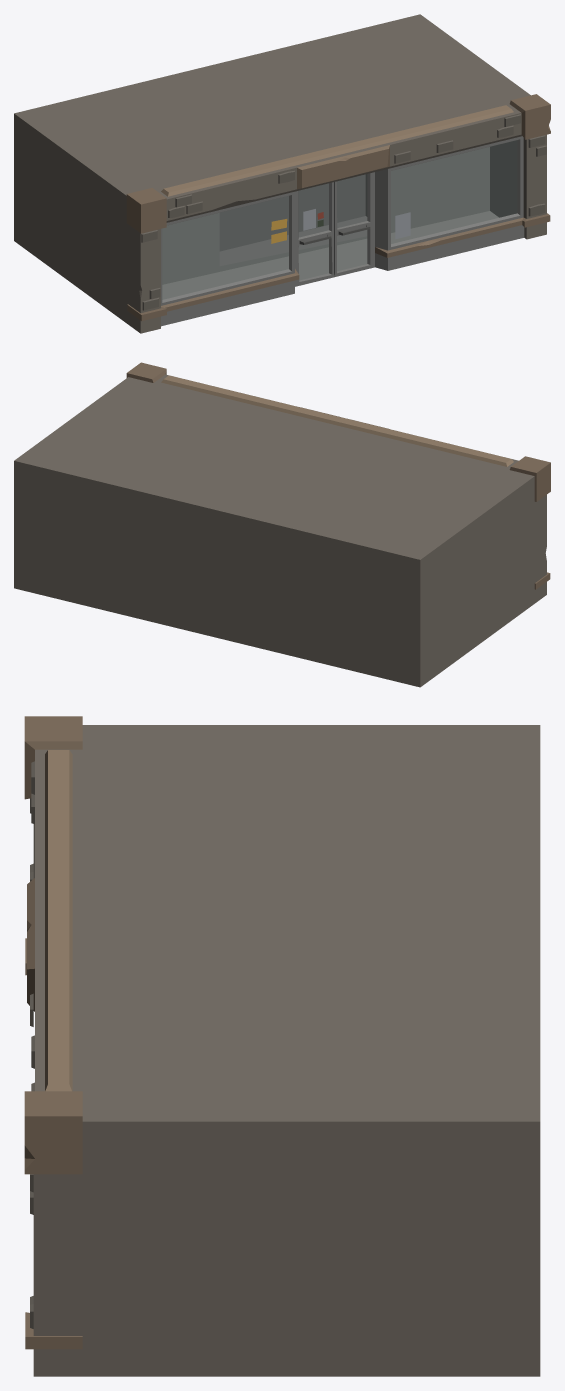
The model's file is SM_Bld_Shop_03.fbx.
3 views of the same model, one above another, from view 1: azimuth 30°, elevation 25°; view 2: azimuth 150°, elevation 25°; view 3: azimuth 270°, elevation 25° (orthographic). The views are drawn at different scales.
Visible parts, largest first — view 1: SM_Bld_Shop_03, SM_Bld_Shop_03_Glass; view 2: SM_Bld_Shop_03; view 3: SM_Bld_Shop_03.
Part boxes in pixels (x1,y1,x2,y2): SM_Bld_Shop_03: (14, 14, 550, 333); SM_Bld_Shop_03_Glass: (163, 141, 516, 298); SM_Bld_Shop_03: (14, 362, 550, 687); SM_Bld_Shop_03: (24, 716, 540, 1376).
Bounding box in the file's own units: 1009 × 308 × 549.
